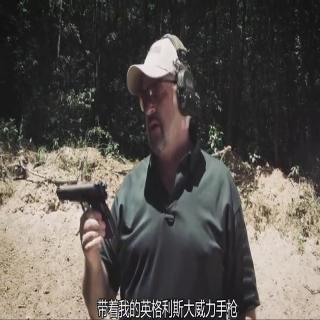gun: (52, 172, 115, 257)
